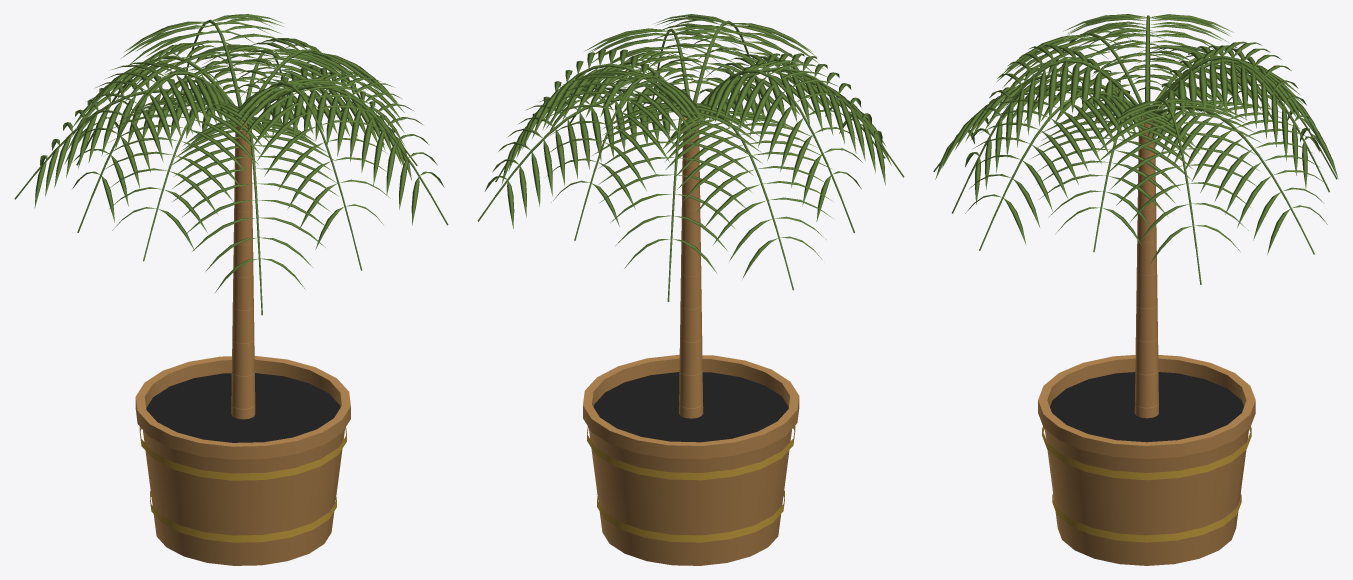
File: parametric-planter-3rd.glb
The picture shows the model from 3 angles, left to right: view 1: azimuth 30°, elevation 25°; view 2: azimuth 150°, elevation 25°; view 3: azimuth 270°, elevation 25°; orthographic projection.
Parts seen in each view (by area): view 1: parametric-planter-3rd; view 2: parametric-planter-3rd; view 3: parametric-planter-3rd.
Boxes of the visible parts, <box> form: parametric-planter-3rd: <box>14,14,448,565</box>; parametric-planter-3rd: <box>477,14,904,565</box>; parametric-planter-3rd: <box>933,14,1338,565</box>.
Bounding box in the file's own units: 1.09 × 1.45 × 1.12.
